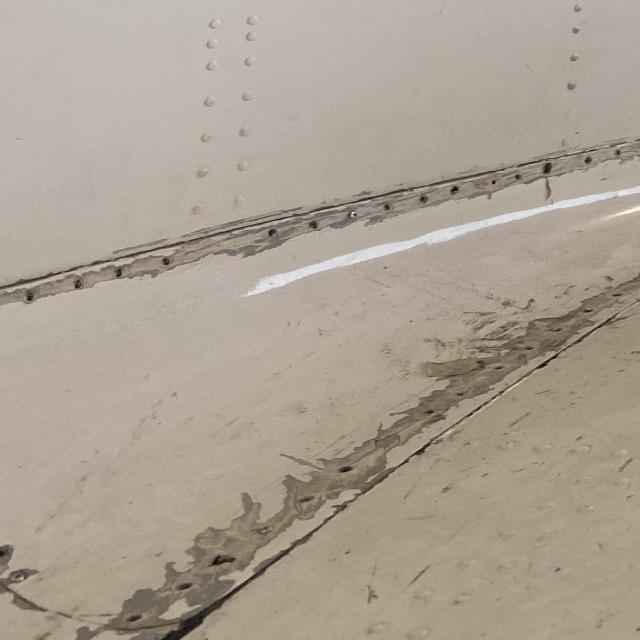Missing-head: (263, 225, 280, 243), (378, 201, 396, 216), (415, 193, 433, 207), (580, 155, 597, 168), (449, 184, 463, 198), (305, 220, 320, 230)
Paint-off: (178, 206, 303, 241), (104, 236, 174, 255), (353, 191, 373, 197)
Scratch: (26, 228, 640, 640), (0, 123, 640, 332)
